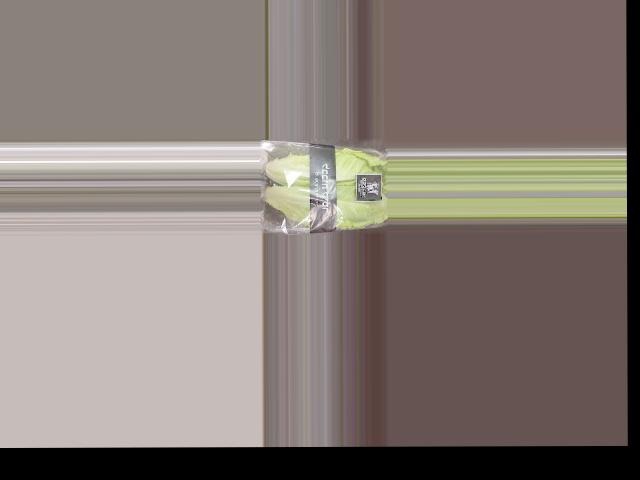lettuce: (259, 140, 386, 227)
